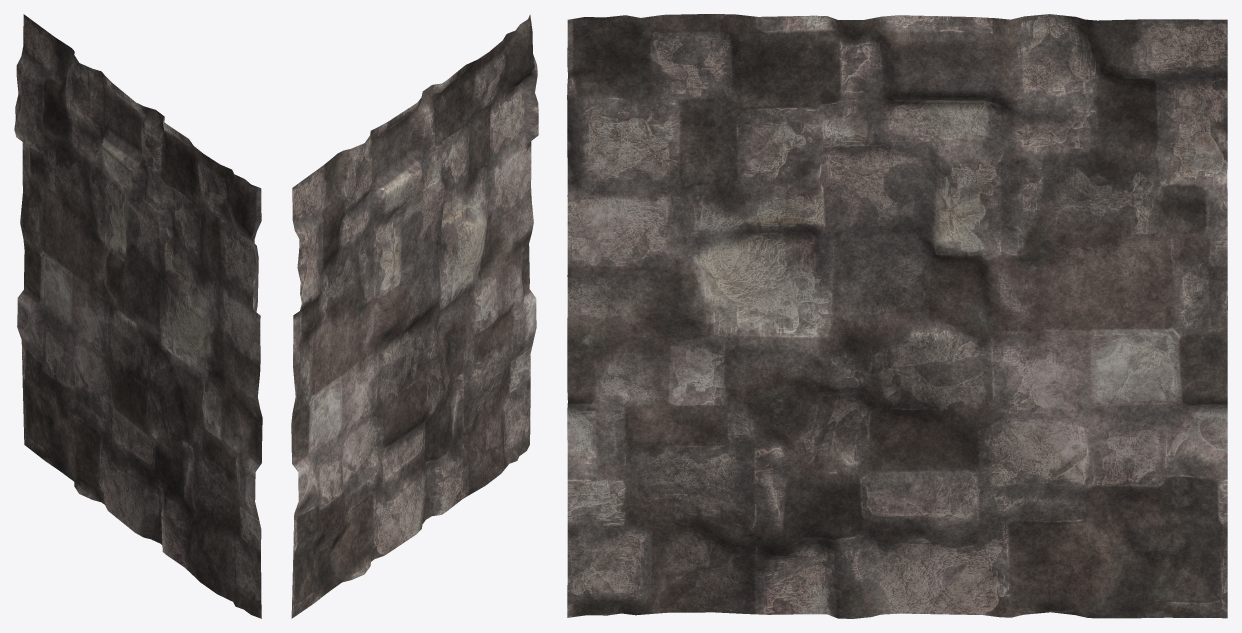
Rendered from SM_StoneWall_A_01.fbx.
The picture shows the model from 3 angles, left to right: view 1: azimuth 30°, elevation 25°; view 2: azimuth 150°, elevation 25°; view 3: azimuth 270°, elevation 25°; orthographic projection. The views are drawn at different scales.
Visible parts, largest first — view 1: SM_StoneWall_A_01_LOD0; view 2: SM_StoneWall_A_01_LOD0; view 3: SM_StoneWall_A_01_LOD0.
Boxes of the visible parts, x1,y1,x2,y2 form: SM_StoneWall_A_01_LOD0: [14, 14, 262, 618]; SM_StoneWall_A_01_LOD0: [291, 14, 538, 618]; SM_StoneWall_A_01_LOD0: [567, 14, 1227, 618].
Bounding box in the file's own units: 11.61 × 400 × 400.
